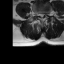CCS_normal: (41, 11, 43, 20)
LFS_severe_stenosis: (45, 11, 47, 17)
LLS_stenosis: (43, 11, 44, 17)
RFS_normal: (37, 11, 39, 17)
RLS_normal: (39, 11, 41, 17)
